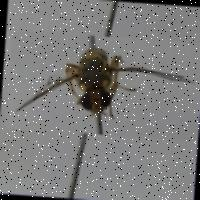Oriental-fruit-fly: (4, 29, 200, 140)
